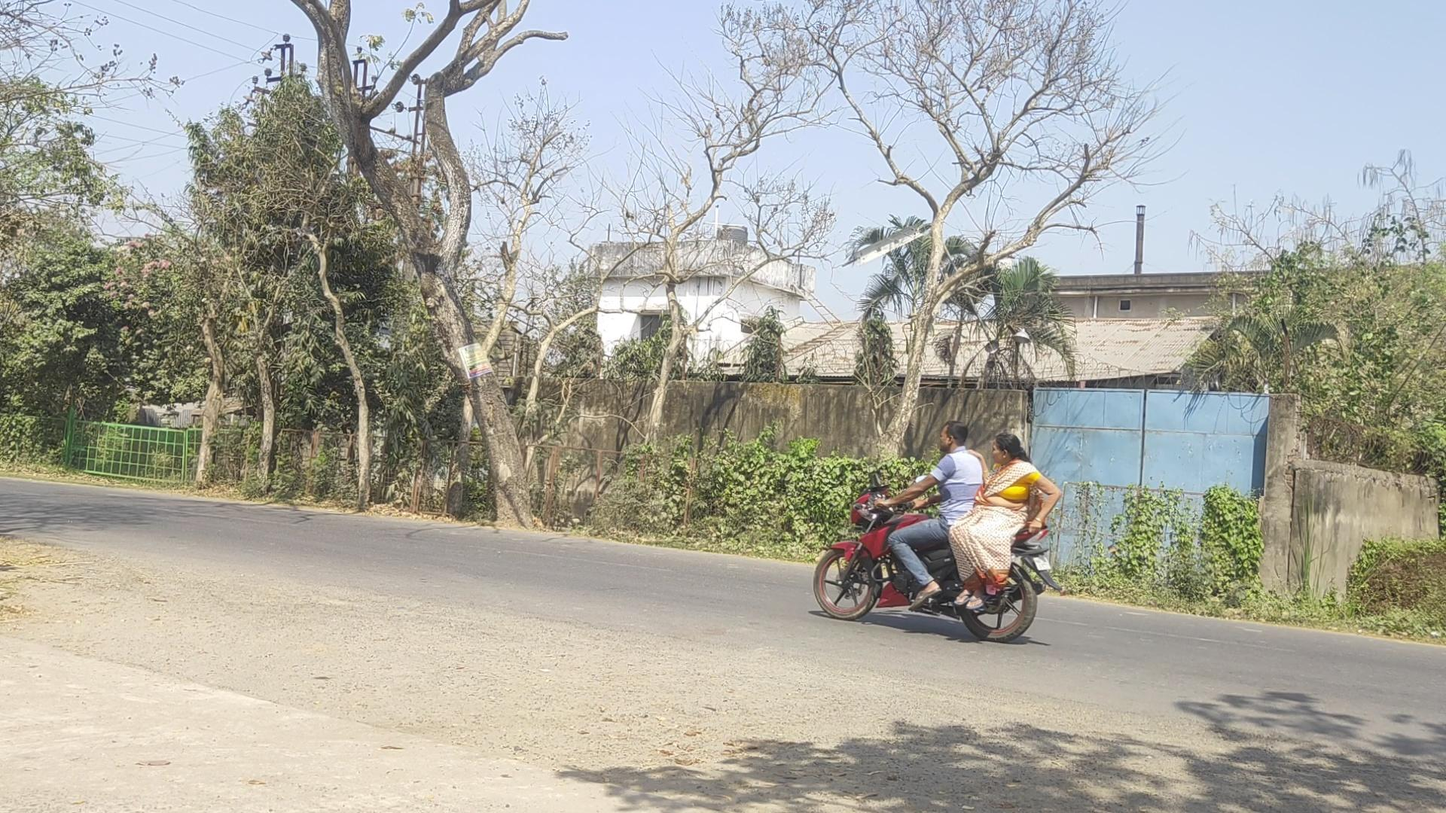bike: (813, 421, 1063, 643)
